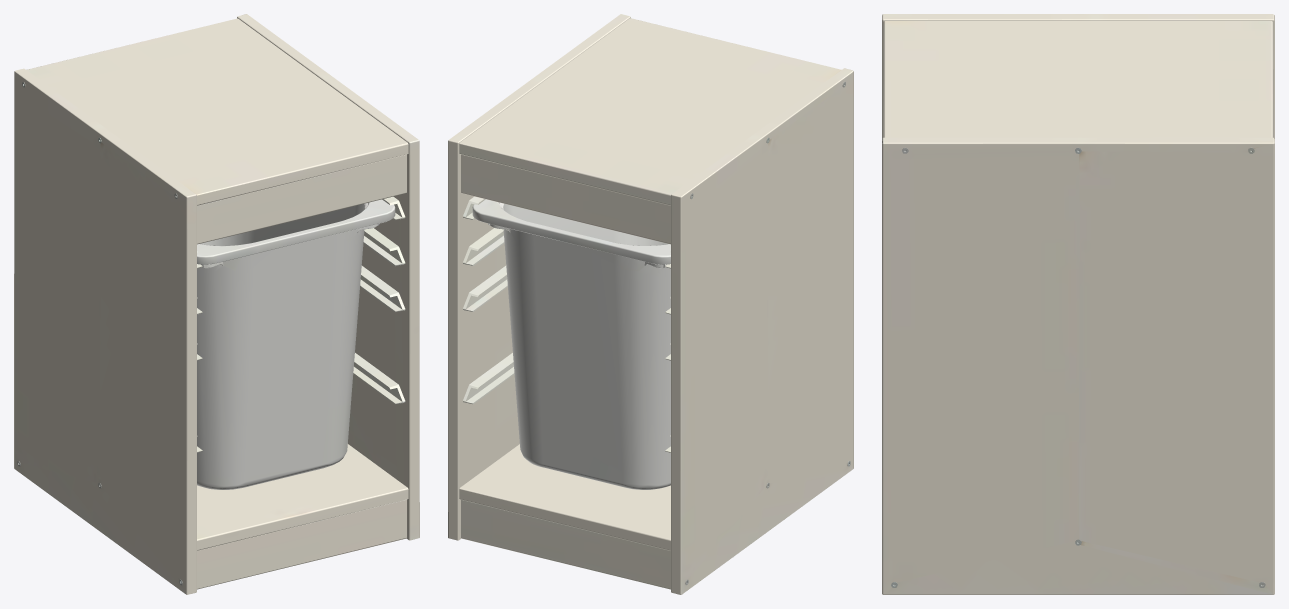
The model's file is trofast_rama_z_pojemnikiem_39601982.glb.
3 views of the same model, side by side, from view 1: azimuth 30°, elevation 25°; view 2: azimuth 150°, elevation 25°; view 3: azimuth 270°, elevation 25° (orthographic). The views are drawn at different scales.
Visible parts, largest first — view 1: trofast_rama_z_pojemnikiem_39601982; view 2: trofast_rama_z_pojemnikiem_39601982; view 3: trofast_rama_z_pojemnikiem_39601982.
Part boxes in pixels (bbox=[...]): trofast_rama_z_pojemnikiem_39601982: bbox=[14, 14, 419, 594]; trofast_rama_z_pojemnikiem_39601982: bbox=[448, 14, 853, 594]; trofast_rama_z_pojemnikiem_39601982: bbox=[882, 14, 1274, 594].
Bounding box in the file's own units: 0.341 × 0.5535 × 0.4359.
1 material, 1 textured.
